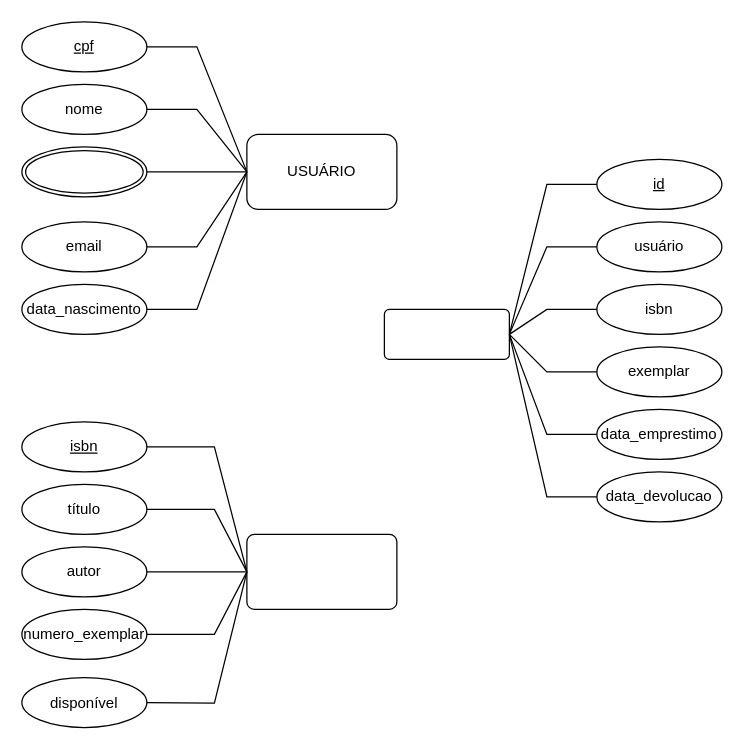
Image size: 744x750. Some labels were removed from this diagram. Each missing label, with the centre of its shape:
EMPRÉSTIMO: the point at 446,333
LIVRO: the point at 321,571
telefone: the point at 84,171
